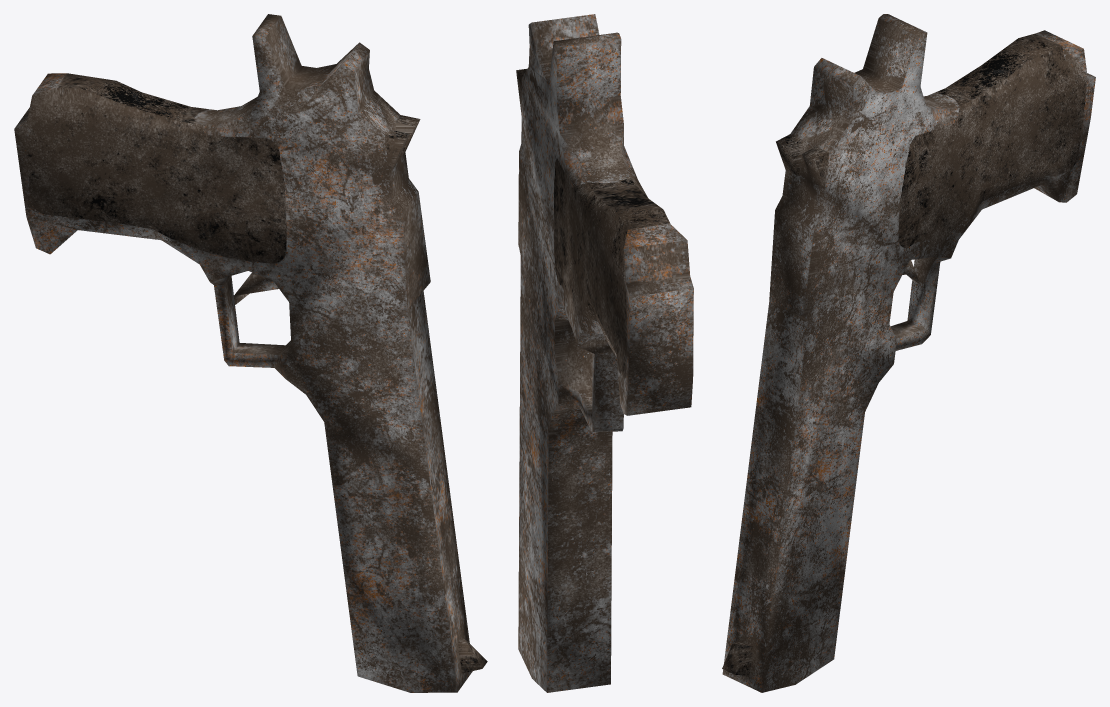
File: Anim_idle_pistola_objetos.0030.obj
3 renders of one model, left to right at view 1: azimuth 30°, elevation 25°; view 2: azimuth 150°, elevation 25°; view 3: azimuth 270°, elevation 25°, orthographic. The views are drawn at different scales.
Visible parts, largest first — view 1: Pistola1; view 2: Pistola1; view 3: Pistola1.
Part boxes in pixels (<box>): Pistola1: <box>14,14,487,692</box>; Pistola1: <box>516,14,693,692</box>; Pistola1: <box>722,14,1095,692</box>.
Bounding box in the file's own units: 0.8511 × 1.67 × 0.9248.
